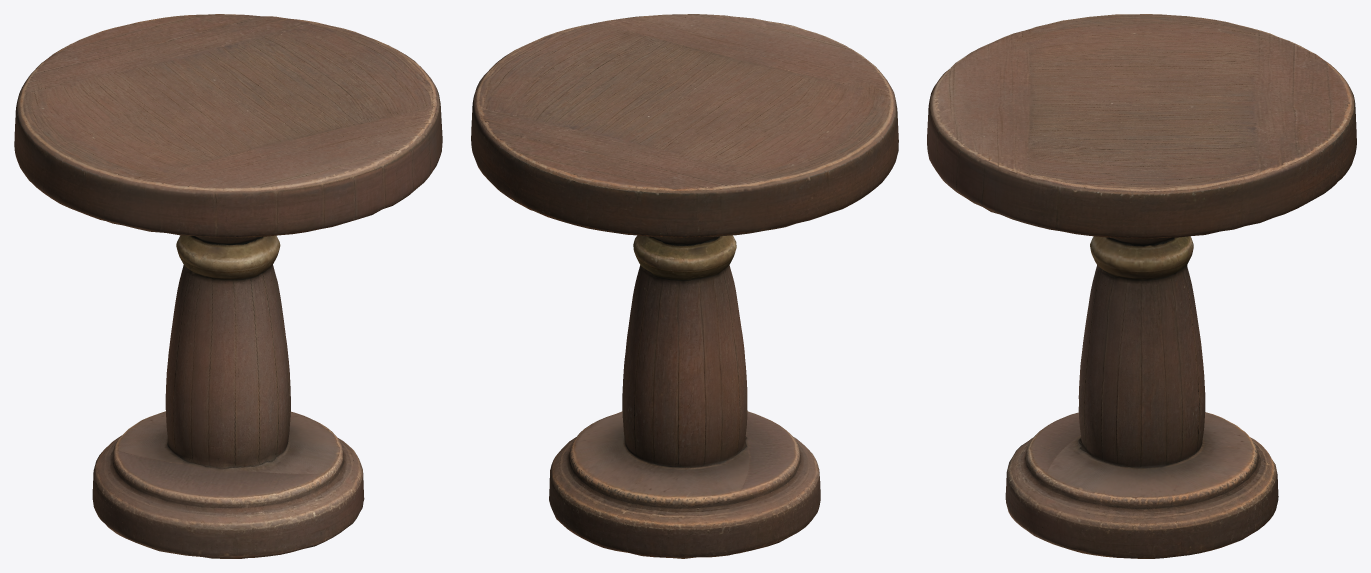
The model's file is Furn_RadioTable.fbx.
3 views of the same model, side by side, from view 1: azimuth 30°, elevation 25°; view 2: azimuth 150°, elevation 25°; view 3: azimuth 270°, elevation 25° (orthographic).
Visible parts, largest first — view 1: texture_mapping; view 2: texture_mapping; view 3: texture_mapping.
Part boxes in pixels (x1,y1,x2,y2): texture_mapping: (14, 14, 442, 558); texture_mapping: (471, 14, 898, 558); texture_mapping: (927, 14, 1356, 558).
Size of the model in its own units: 0.9672 by 0.965 by 0.9977.
1 material, 1 textured.
